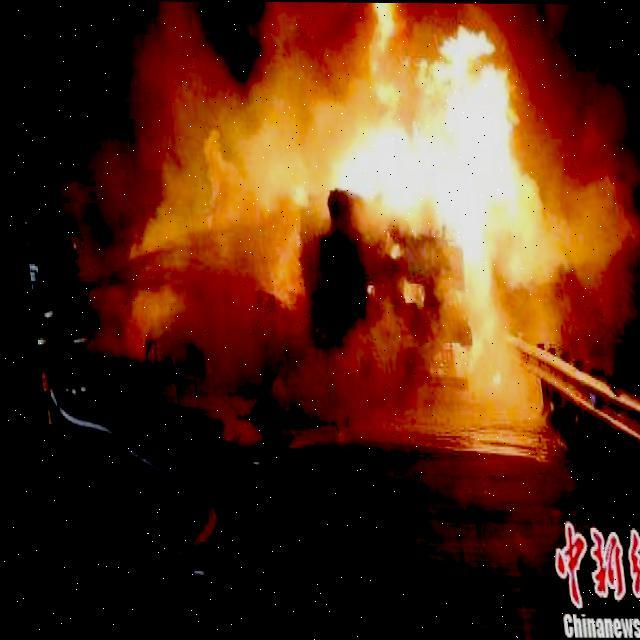Fire: (272, 2, 555, 392)
